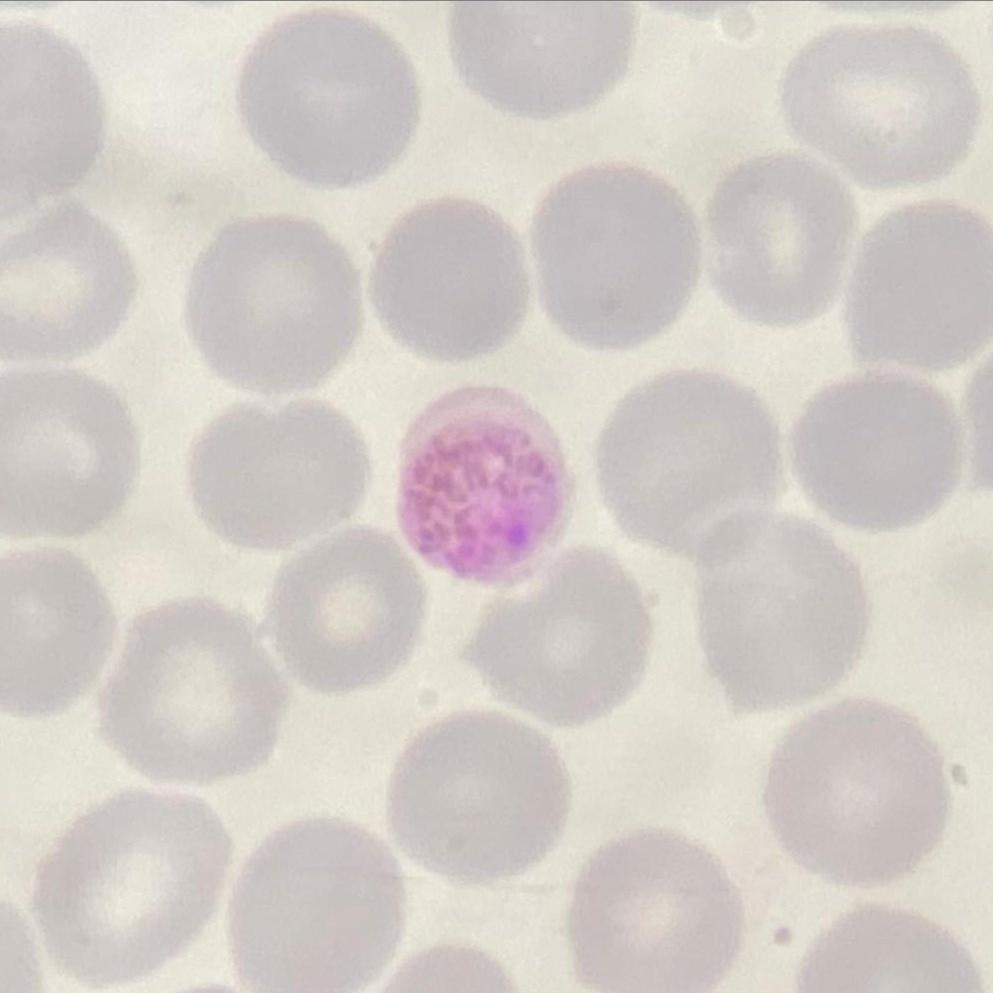Infected: (393, 383, 571, 590)
Uninfected: (692, 501, 872, 712), (182, 218, 372, 404), (33, 796, 222, 982), (763, 698, 946, 889), (458, 548, 648, 731), (597, 373, 779, 564), (767, 26, 974, 190), (388, 708, 571, 882), (242, 8, 419, 185), (102, 603, 282, 777), (530, 163, 698, 349), (228, 818, 406, 993), (185, 396, 372, 552), (568, 826, 736, 993), (840, 198, 993, 380), (702, 153, 859, 327), (372, 196, 532, 364), (262, 531, 422, 694), (792, 373, 958, 527), (0, 201, 139, 369), (0, 363, 139, 527), (447, 0, 629, 119), (0, 23, 109, 209), (0, 556, 111, 716)
